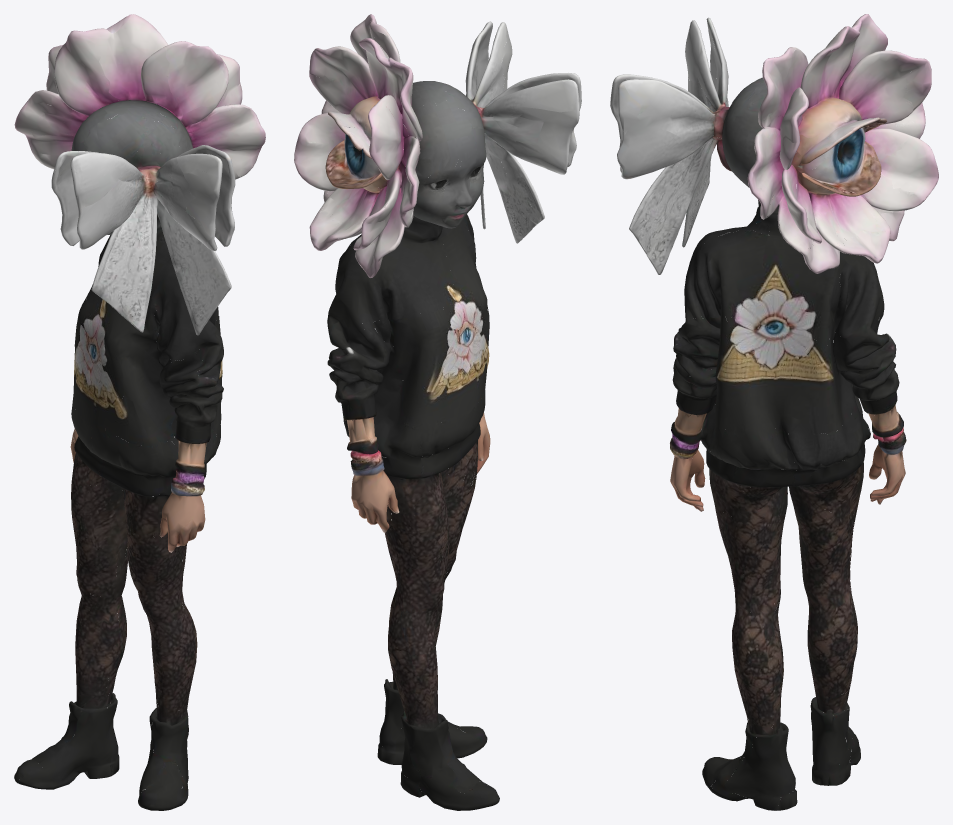
The model's file is susan.glb.
3 renders of one model, left to right at view 1: azimuth 30°, elevation 25°; view 2: azimuth 150°, elevation 25°; view 3: azimuth 270°, elevation 25°, orthographic. The views are drawn at different scales.
Parts seen in each view (by area): view 1: tripo_node_fbabcdb4-667d-453d-b6af-065c32072f40; view 2: tripo_node_fbabcdb4-667d-453d-b6af-065c32072f40; view 3: tripo_node_fbabcdb4-667d-453d-b6af-065c32072f40.
Boxes of the visible parts, x1=… form: tripo_node_fbabcdb4-667d-453d-b6af-065c32072f40: x1=14, y1=14, x2=265, y2=810; tripo_node_fbabcdb4-667d-453d-b6af-065c32072f40: x1=294, y1=14, x2=581, y2=810; tripo_node_fbabcdb4-667d-453d-b6af-065c32072f40: x1=610, y1=14, x2=938, y2=810.
Size of the model in its own units: 0.3361 by 1 by 0.3846.
1 material, 1 textured.
